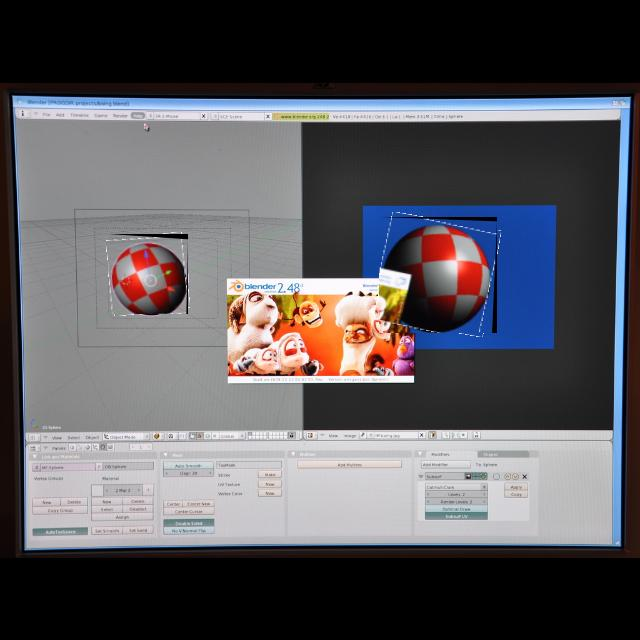Football: (379, 217, 497, 333), (108, 234, 188, 314)
